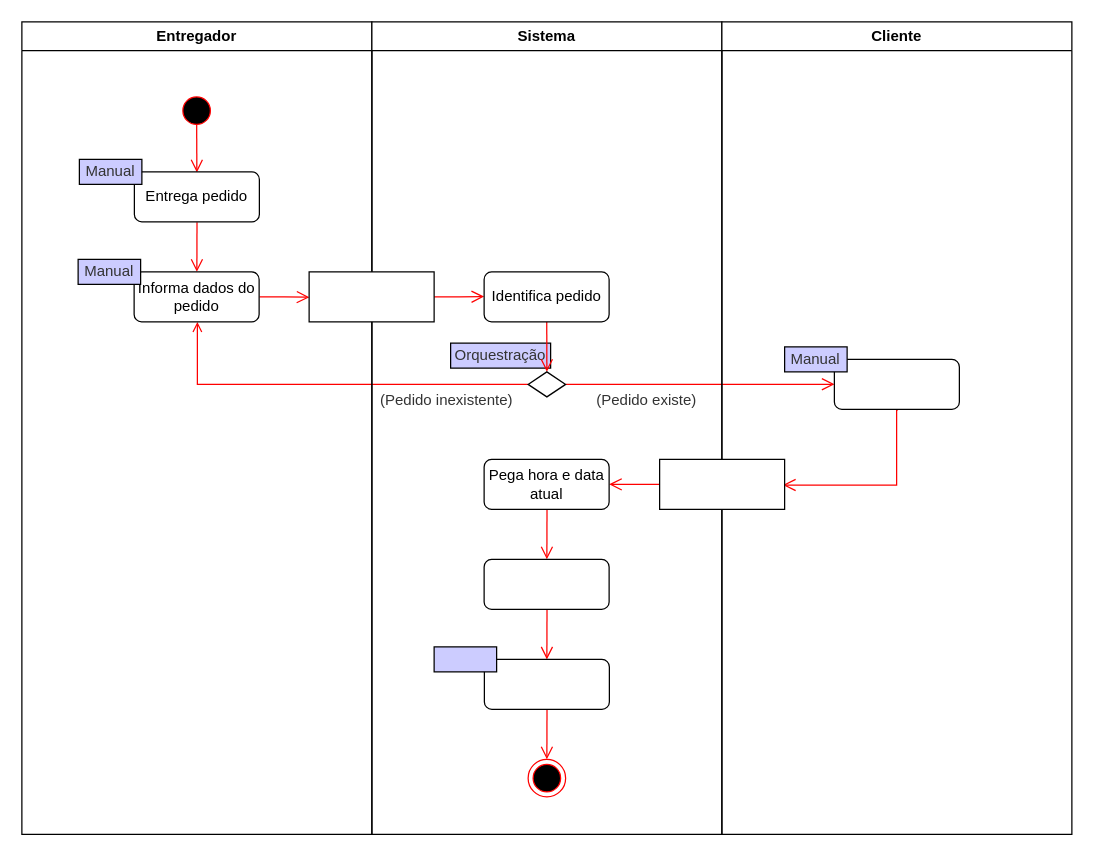
The diagram is 1094 pixels wide and 856 high, and some of its shapes have lost their labels. The box of each missing label's shape, as (x1, y1, x2, y2) in pixels:
dadosCliente: (658, 458, 785, 509)
Fornece dados: (833, 358, 959, 409)
Legado: (433, 646, 497, 672)
Notifica cliente: (483, 658, 609, 709)
numeroPedido: (308, 271, 434, 322)
Registra entrega: (483, 558, 609, 609)
